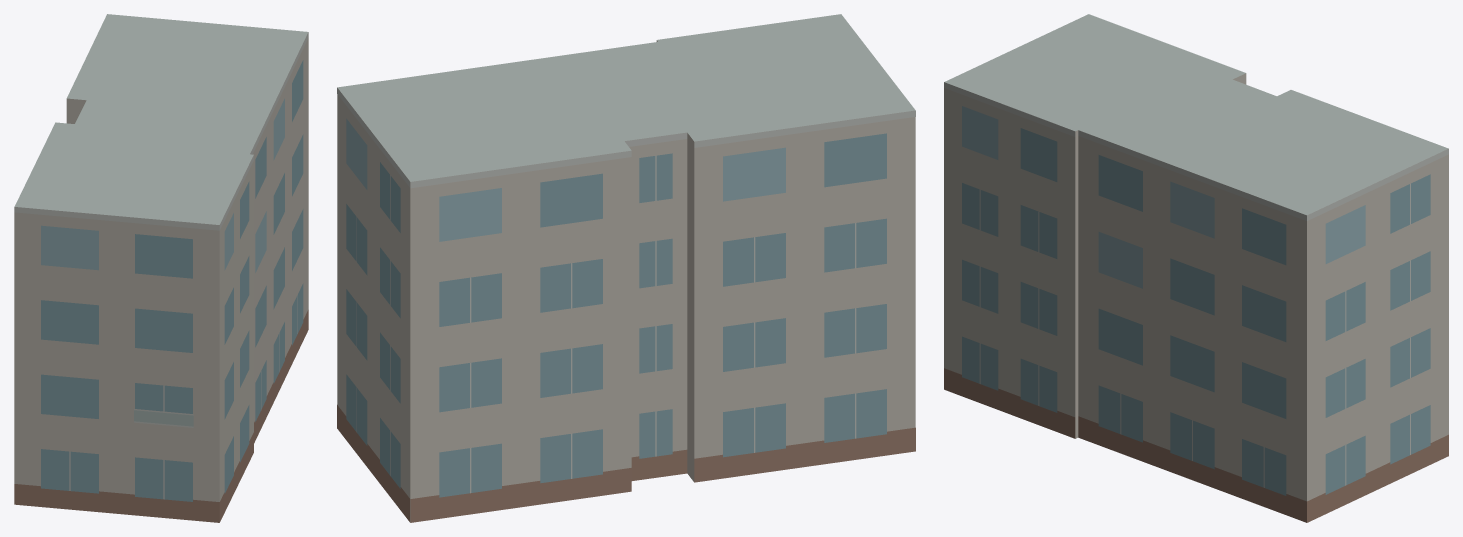
The model's file is survey-upis-32611380.glb.
The picture shows the model from 3 angles, left to right: view 1: azimuth 30°, elevation 25°; view 2: azimuth 150°, elevation 25°; view 3: azimuth 270°, elevation 25°; orthographic projection. The views are drawn at different scales.
Parts seen in each view (by area): view 1: survey-upis-32611380.tmp; view 2: survey-upis-32611380.tmp; view 3: survey-upis-32611380.tmp.
Boxes of the visible parts, left/top/right/bottom form: survey-upis-32611380.tmp: left=14, top=14, right=308, bottom=522; survey-upis-32611380.tmp: left=337, top=14, right=915, bottom=522; survey-upis-32611380.tmp: left=944, top=14, right=1448, bottom=522.
Bounding box in the file's own units: 18.27 × 13 × 19.35.
